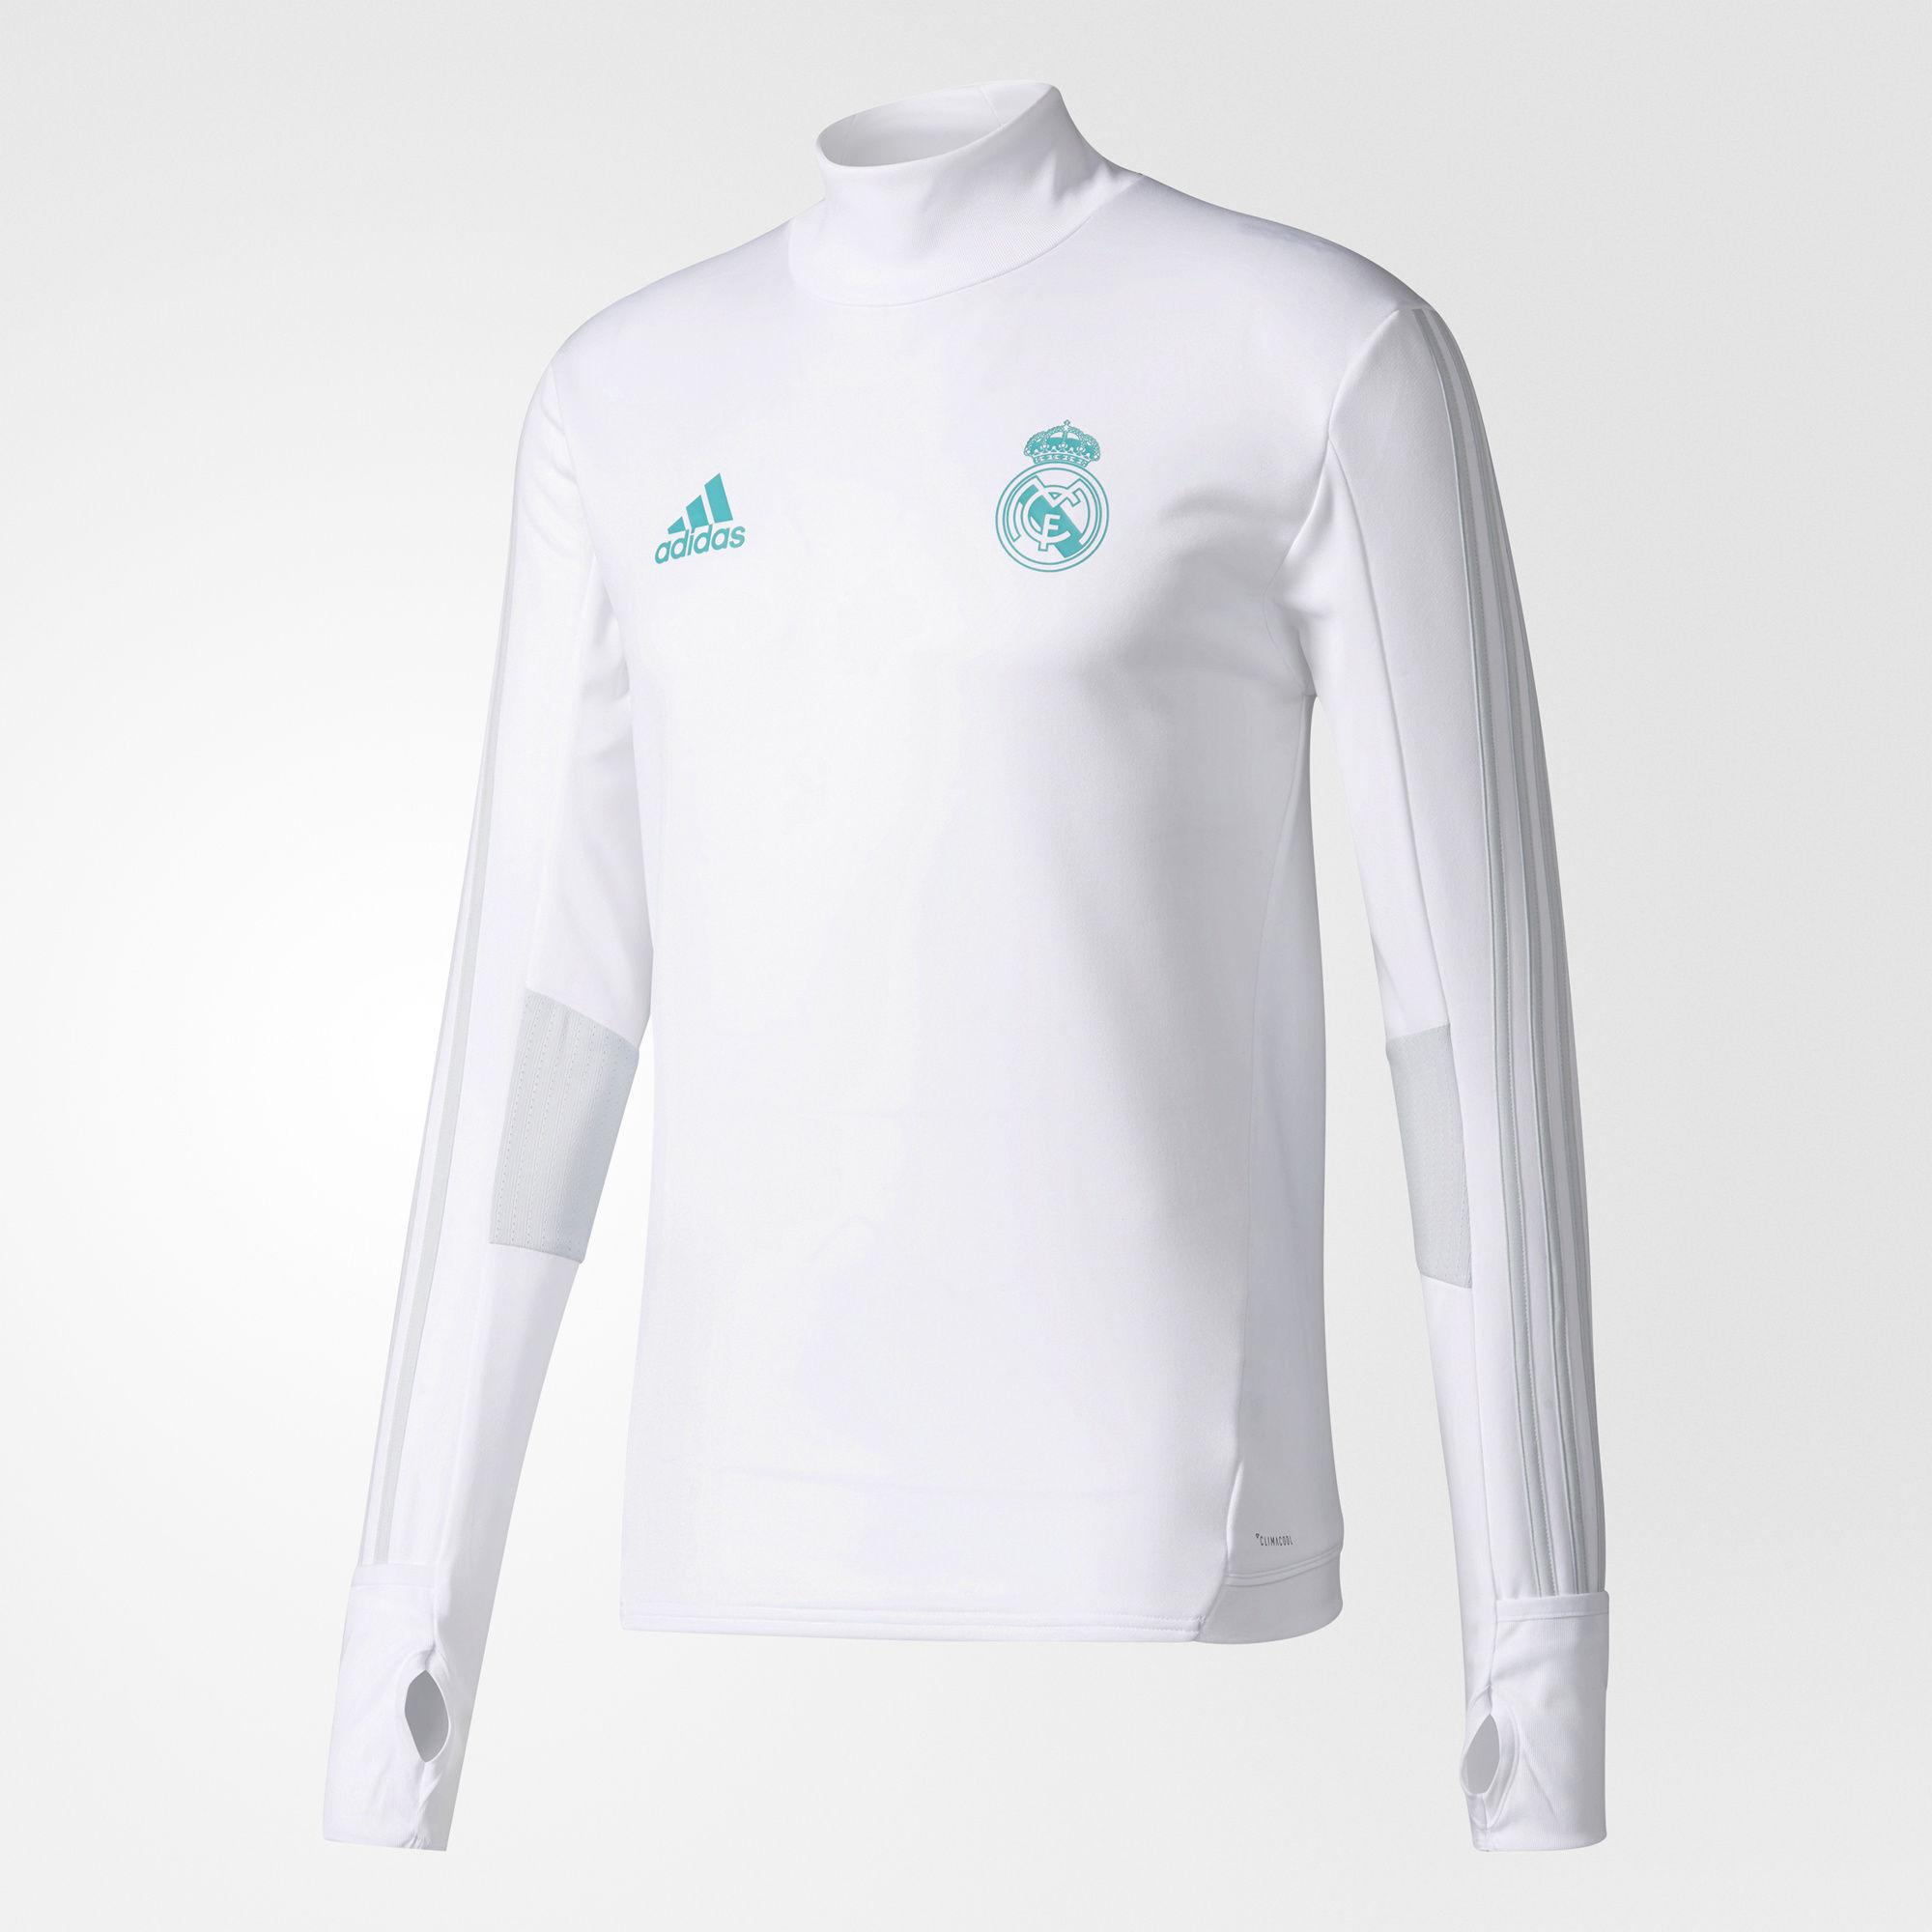teeshirt: (311, 67, 1688, 1863)
